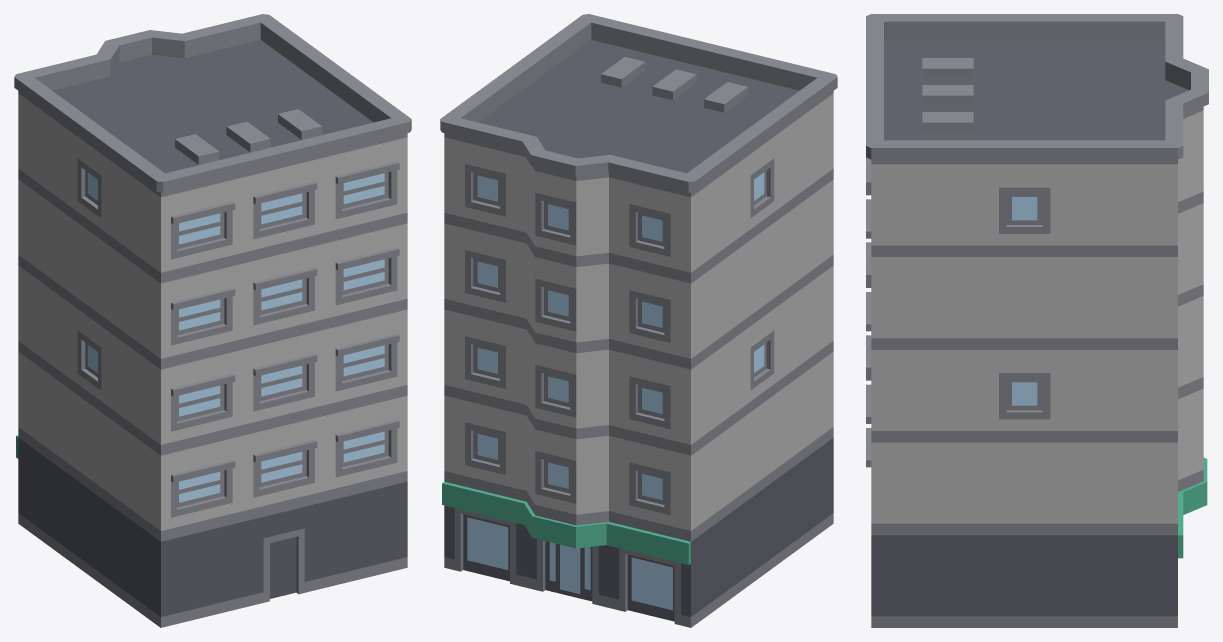
Rendered from large_buildingE.fbx.
The picture shows the model from 3 angles, left to right: view 1: azimuth 30°, elevation 25°; view 2: azimuth 150°, elevation 25°; view 3: azimuth 270°, elevation 25°; orthographic projection. The views are drawn at different scales.
Parts seen in each view (by area): view 1: large_buildingE; view 2: large_buildingE; view 3: large_buildingE.
Part boxes in pixels (x1,y1,x2,y2): large_buildingE: (14, 14, 411, 627); large_buildingE: (440, 14, 837, 627); large_buildingE: (866, 14, 1208, 627).
Size of the model in its own units: 12.4 by 20.8 by 13.4.
